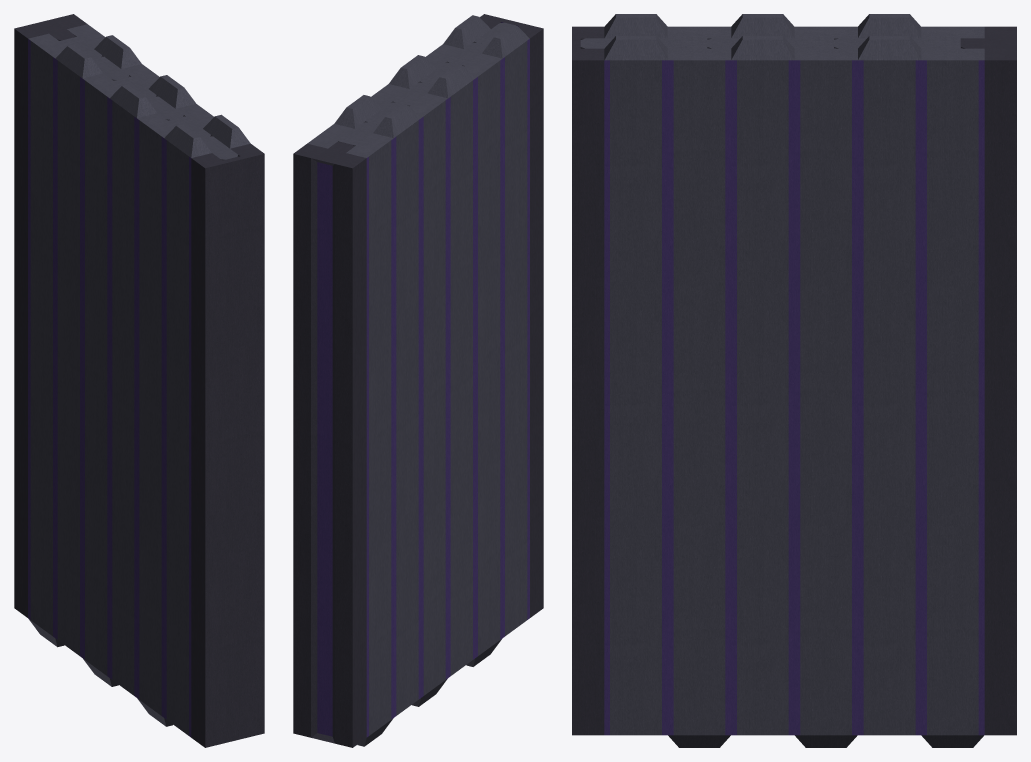
File: DOOR_Variant01_Final.FBX
3 renders of one model, left to right at view 1: azimuth 30°, elevation 25°; view 2: azimuth 150°, elevation 25°; view 3: azimuth 270°, elevation 25°, orthographic. The views are drawn at different scales.
Parts seen in each view (by area): view 1: Forground Part, DoorPart007, DoorPart005, DoorPart003, DoorPart004, DoorPart001, DoorPart006, Forground Part001; view 2: Forground Part001, DoorPart005, DoorPart007, DoorPart001, DoorPart006, DoorPart004, DoorPart003, Forground Part; view 3: DoorPart006, DoorPart007, DoorPart005, DoorPart003, DoorPart001, DoorPart004, Forground Part001, Forground Part.
Boxes of the visible parts, x1=… form: Forground Part: x1=191, y1=143, x2=264, y2=747; DoorPart007: x1=164, y1=114, x2=250, y2=737; DoorPart005: x1=109, y1=75, x2=196, y2=697; DoorPart003: x1=55, y1=35, x2=141, y2=657; DoorPart004: x1=82, y1=64, x2=159, y2=686; DoorPart001: x1=28, y1=24, x2=105, y2=647; DoorPart006: x1=137, y1=104, x2=213, y2=726; Forground Part001: x1=14, y1=14, x2=87, y2=617; Forground Part001: x1=293, y1=142, x2=366, y2=747; DoorPart005: x1=389, y1=55, x2=475, y2=677; DoorPart007: x1=443, y1=15, x2=529, y2=637; DoorPart001: x1=307, y1=122, x2=393, y2=746; DoorPart006: x1=425, y1=42, x2=502, y2=666; DoorPart004: x1=371, y1=82, x2=448, y2=706; DoorPart003: x1=334, y1=95, x2=420, y2=717; Forground Part: x1=480, y1=14, x2=543, y2=617; DoorPart006: x1=659, y1=26, x2=731, y2=747; DoorPart007: x1=580, y1=14, x2=667, y2=735; DoorPart005: x1=707, y1=14, x2=794, y2=735; DoorPart003: x1=834, y1=14, x2=921, y2=735; DoorPart001: x1=912, y1=26, x2=984, y2=747; DoorPart004: x1=785, y1=26, x2=857, y2=747; Forground Part001: x1=961, y1=26, x2=1016, y2=735; Forground Part: x1=572, y1=26, x2=604, y2=735.
Bounding box in the file's own units: 39.37 × 384 × 219.
4 materials, 3 textured.
